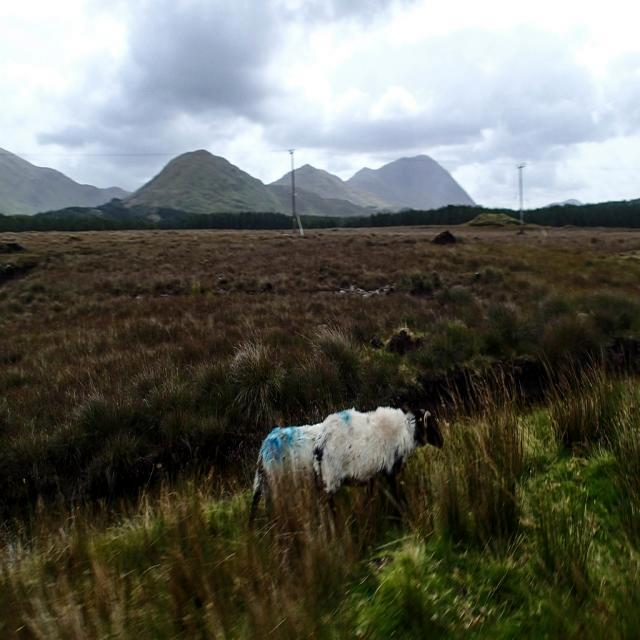sheep: (312, 405, 443, 491), (251, 424, 320, 507)
